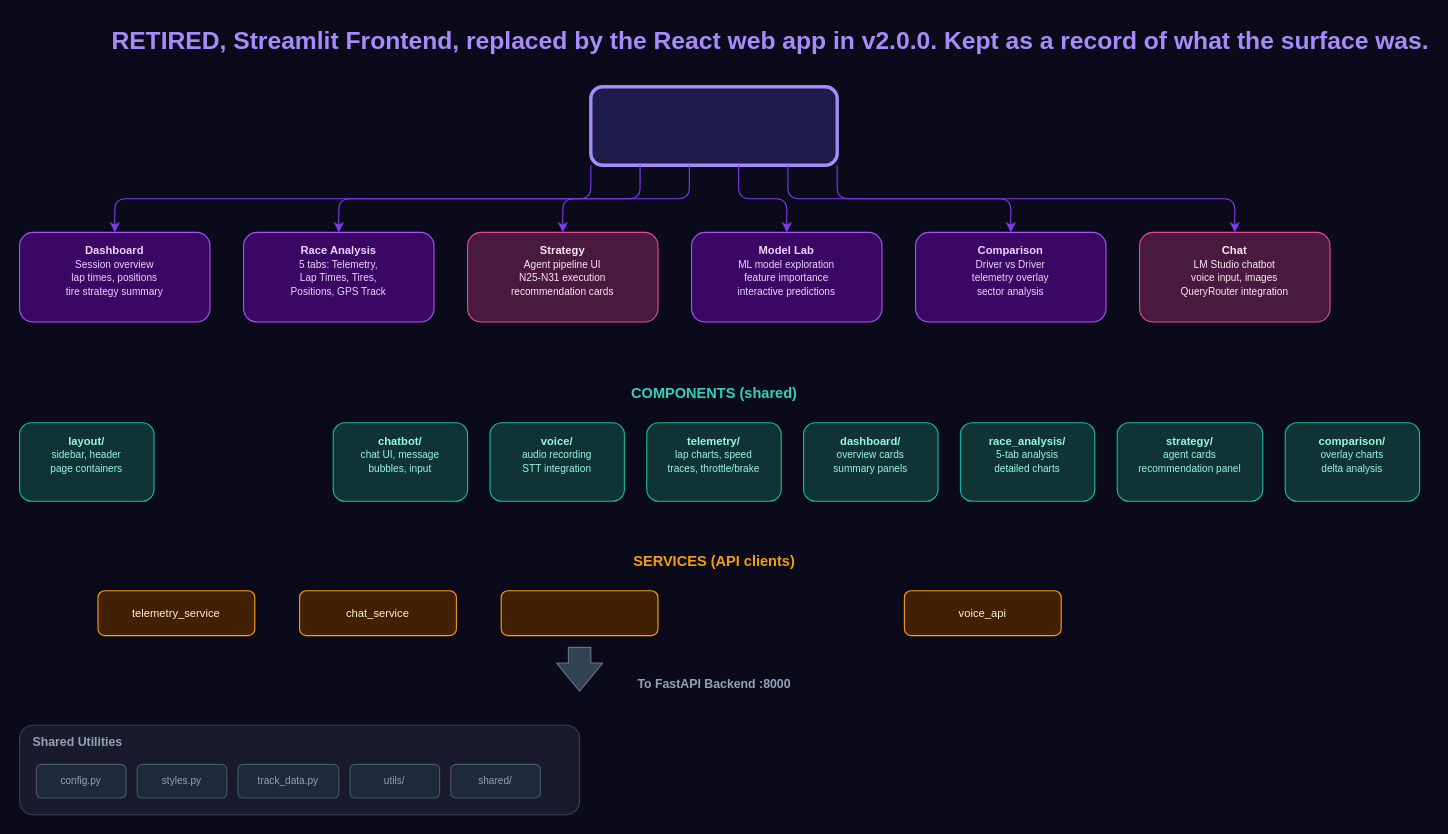
This 1448x834 diagram has some shape labels left out. The box of each missing label's shape, as (x1, y1, x2, y2) in pixels:
app/main.py Streamlit Router sidebar navigation: (589, 85, 838, 166)
strategy_service: (500, 590, 658, 636)
